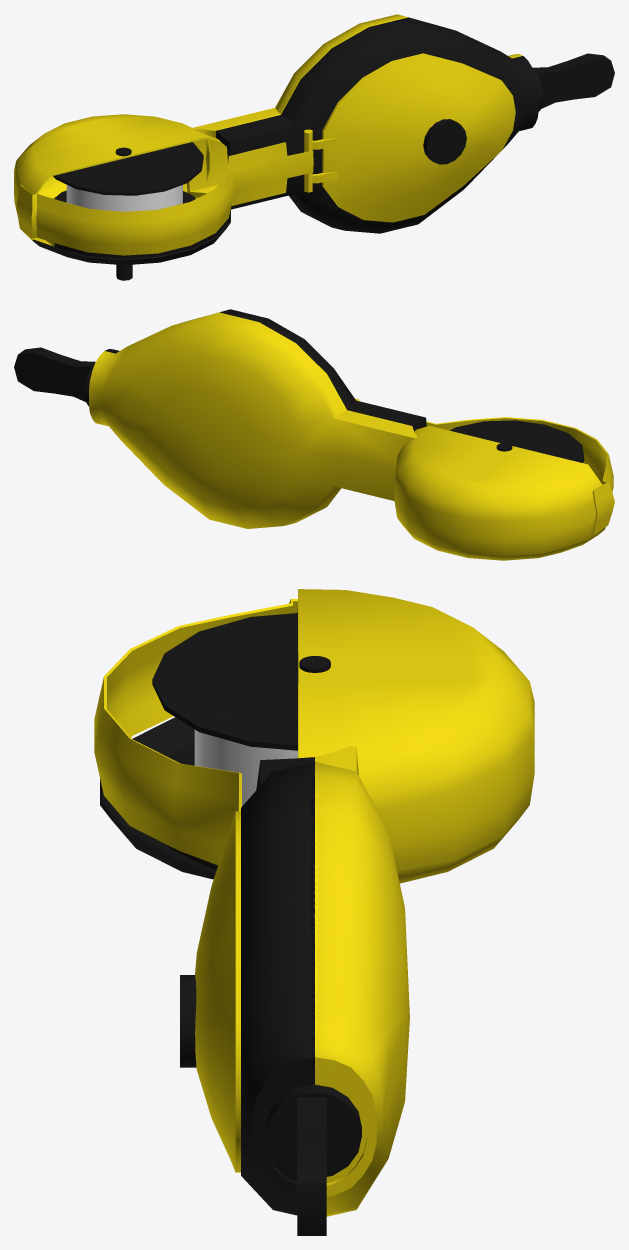
The model's file is MoDou.fbx.
3 renders of one model, top to bottom at view 1: azimuth 30°, elevation 25°; view 2: azimuth 150°, elevation 25°; view 3: azimuth 270°, elevation 25°, orthographic. The views are drawn at different scales.
Parts seen in each view (by area): view 1: MoDou; view 2: MoDou; view 3: MoDou.
Boxes of the visible parts, <box> form: MoDou: <box>14,14,614,280</box>; MoDou: <box>14,309,614,560</box>; MoDou: <box>94,589,534,1235</box>.
Size of the model in its own units: 19.61 by 6.48 by 6.35.
Materials: 1 (1 with a texture image).
